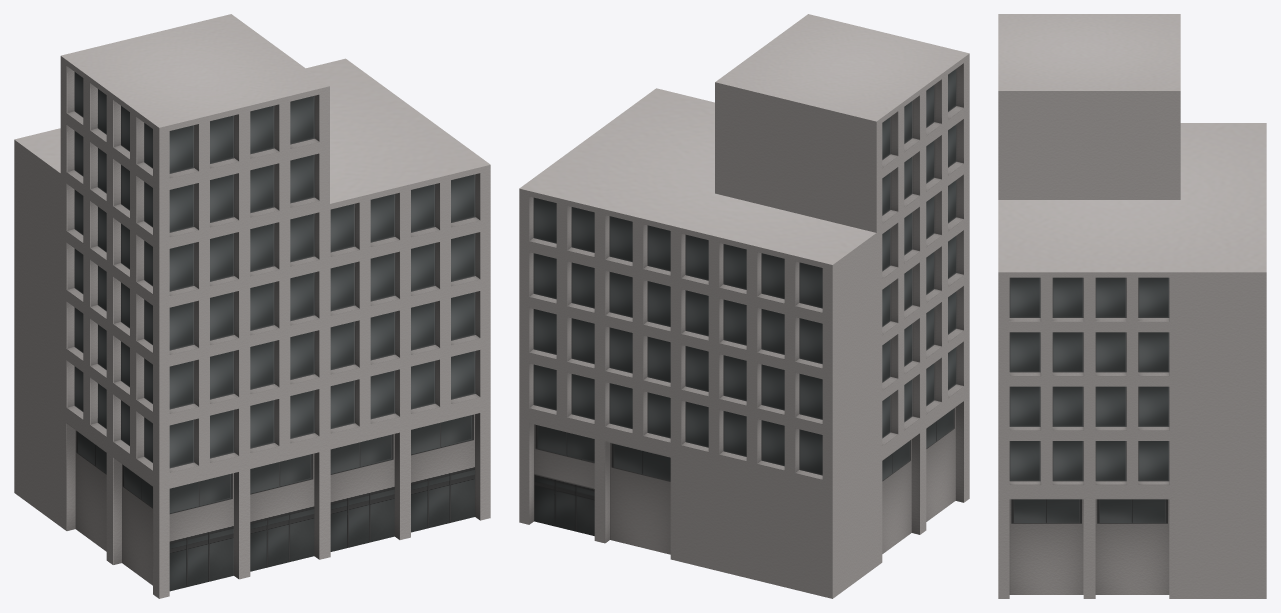
File: BgMD_goto_Building_02_02.fbx
3 renders of one model, left to right at view 1: azimuth 30°, elevation 25°; view 2: azimuth 150°, elevation 25°; view 3: azimuth 270°, elevation 25°, orthographic. The views are drawn at different scales.
Parts seen in each view (by area): view 1: BgMD_goto_Building_02_02; view 2: BgMD_goto_Building_02_02; view 3: BgMD_goto_Building_02_02.
Boxes of the visible parts, bbox=[...] form: BgMD_goto_Building_02_02: bbox=[14, 14, 490, 598]; BgMD_goto_Building_02_02: bbox=[519, 14, 969, 598]; BgMD_goto_Building_02_02: bbox=[998, 14, 1266, 598].
Bounding box in the file's own units: 2681 × 3640 × 2031.
1 material, 1 textured.
